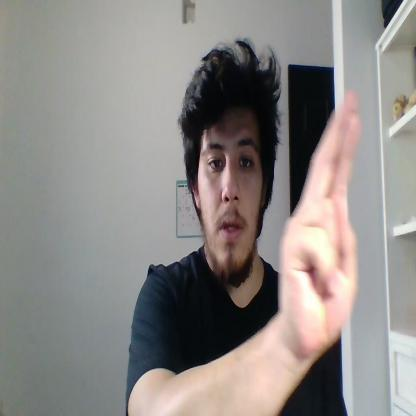R: (279, 93, 361, 357)
